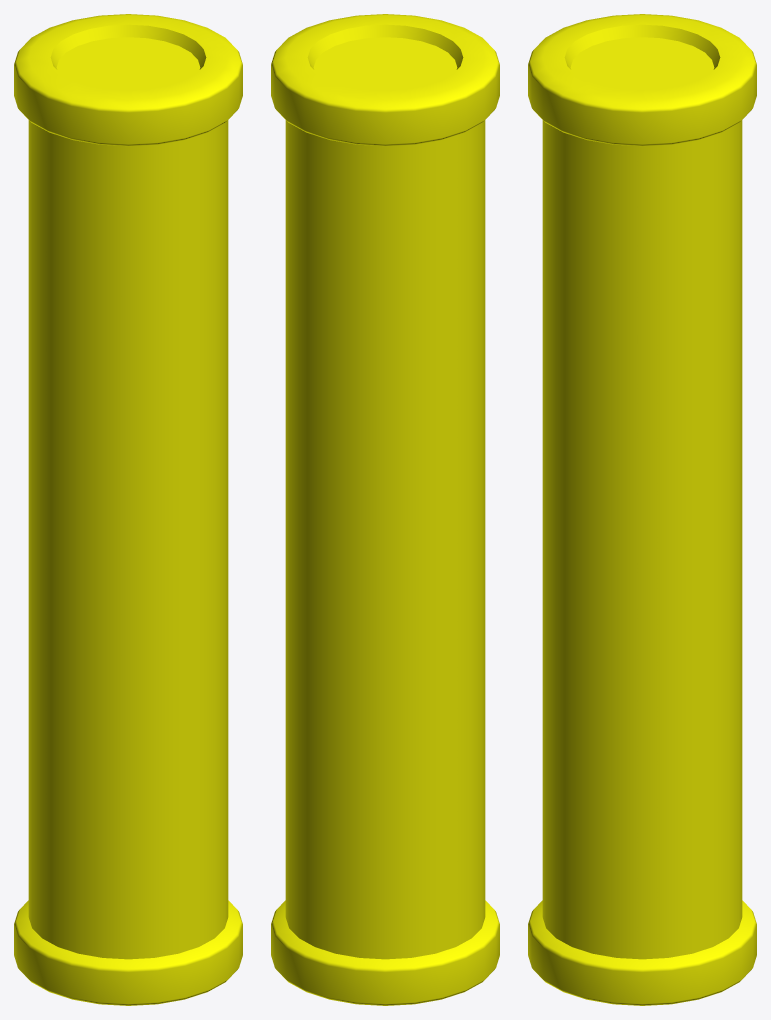
File: S_Pipe_Spline.FBX
The picture shows the model from 3 angles, left to right: view 1: azimuth 30°, elevation 25°; view 2: azimuth 150°, elevation 25°; view 3: azimuth 270°, elevation 25°; orthographic projection.
Visible parts, largest first — view 1: S_Pipe_Spline; view 2: S_Pipe_Spline; view 3: S_Pipe_Spline.
Part boxes in pixels (x1,y1,x2,y2): S_Pipe_Spline: (14,14,242,1005); S_Pipe_Spline: (271,14,499,1005); S_Pipe_Spline: (528,14,756,1005).
Bounding box in the file's own units: 45.84 × 45.84 × 200.
